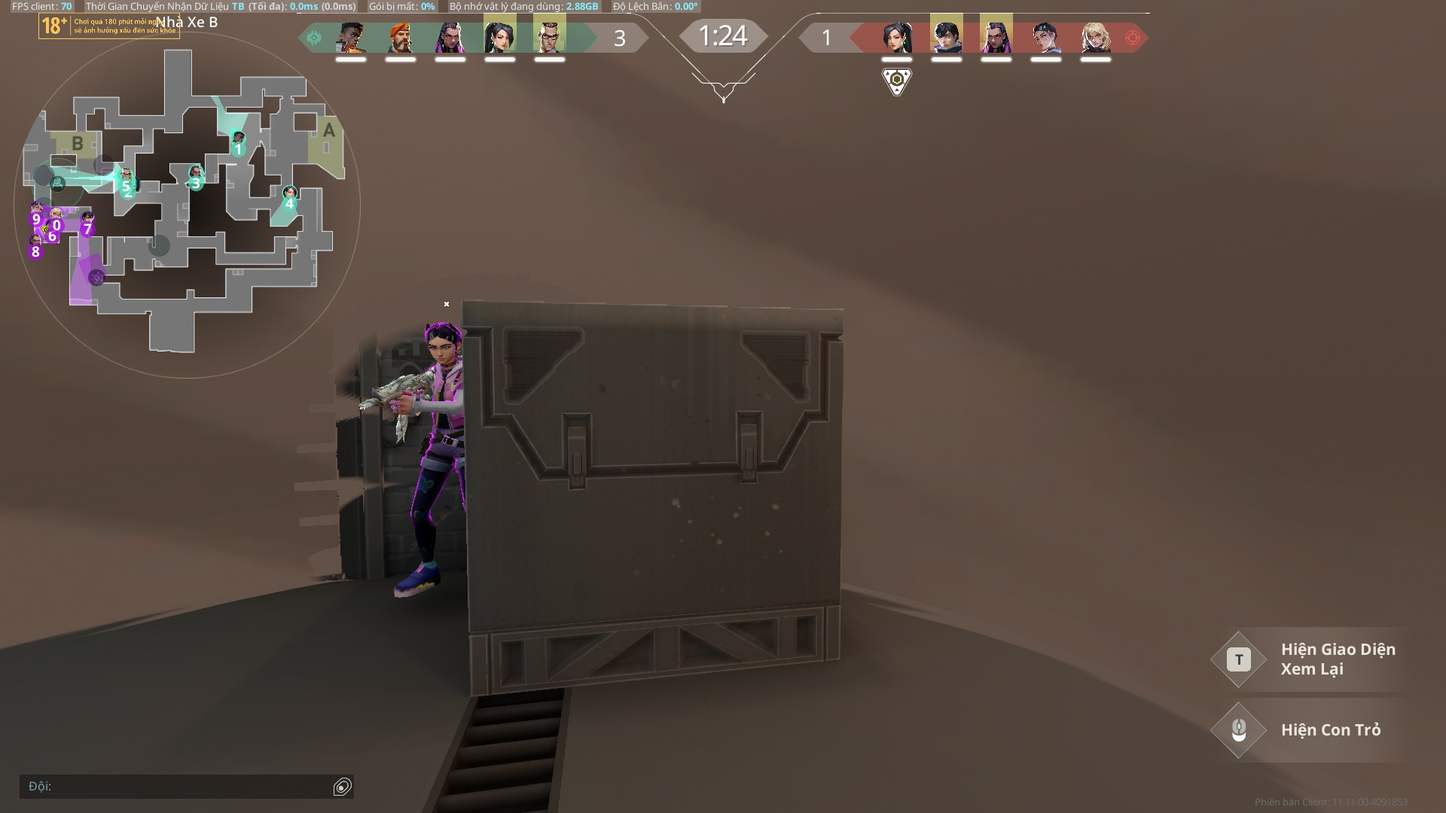body: (410, 352, 467, 452)
head: (419, 318, 458, 364)
